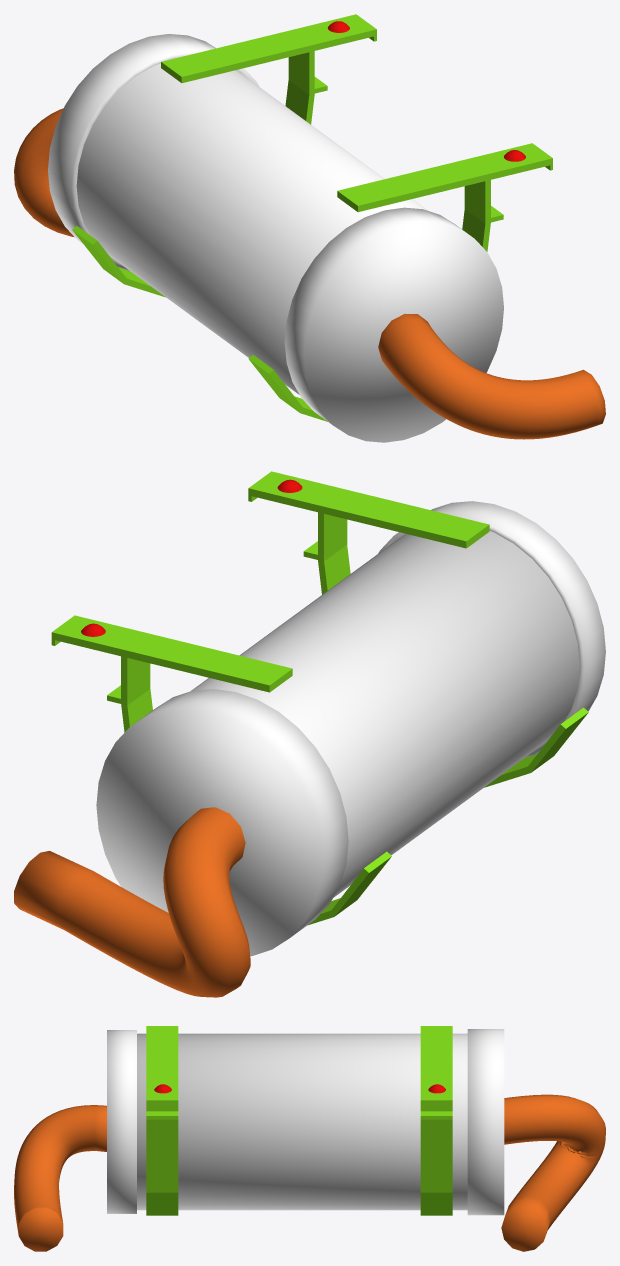
File: WaterCooler.fbx
The picture shows the model from 3 angles, top to bottom: view 1: azimuth 30°, elevation 25°; view 2: azimuth 150°, elevation 25°; view 3: azimuth 270°, elevation 25°; orthographic projection. The views are drawn at different scales.
Parts seen in each view (by area): view 1: Cylinder.051; view 2: Cylinder.051; view 3: Cylinder.051.
Part boxes in pixels (x1=…): Cylinder.051: x1=14, y1=14, x2=605, y2=442; Cylinder.051: x1=14, y1=471, x2=605, y2=997; Cylinder.051: x1=14, y1=1026, x2=605, y2=1251.
Size of the model in its own units: 7.74 by 6.05 by 17.93.
